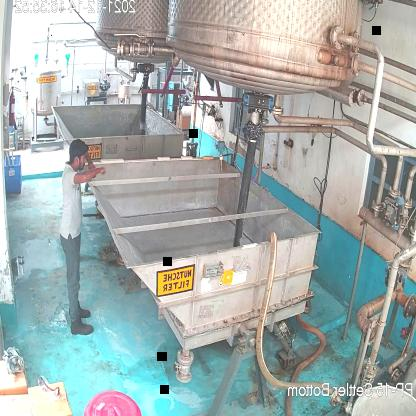shoes: (68, 318, 96, 339)
